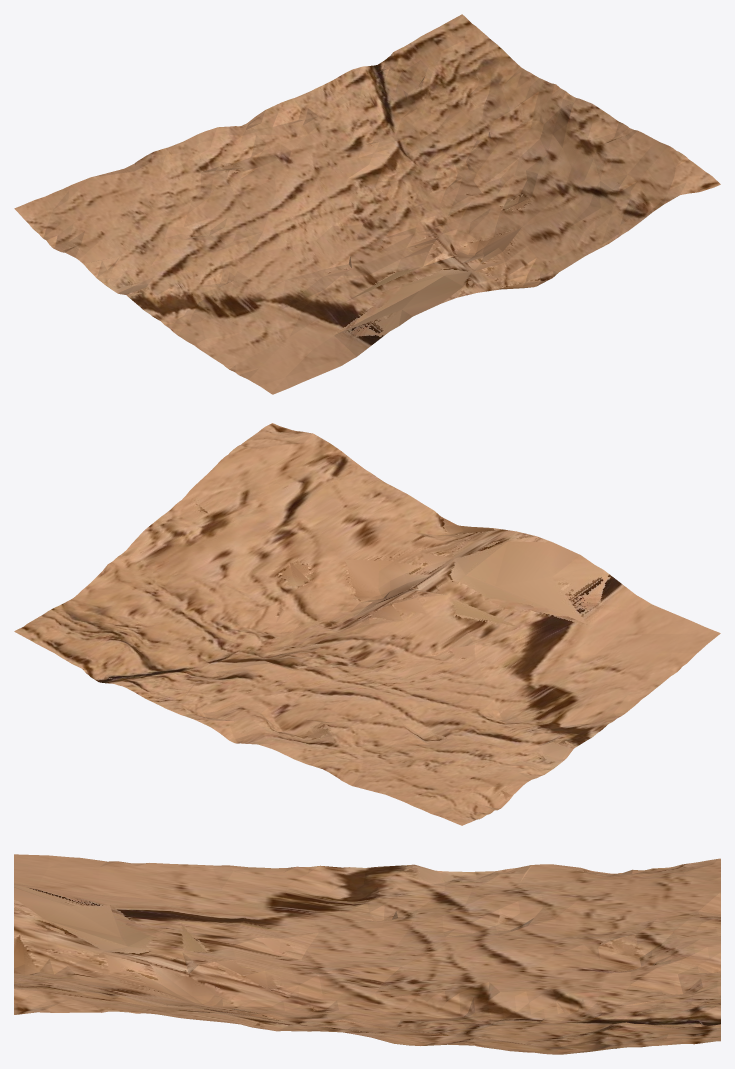
3 renders of one model, top to bottom at view 1: azimuth 30°, elevation 25°; view 2: azimuth 150°, elevation 25°; view 3: azimuth 270°, elevation 25°, orthographic. The views are drawn at different scales.
Bounding box in the file's own units: 1.04 × 0.2621 × 1.04.
Materials: 2 (2 with a texture image).
